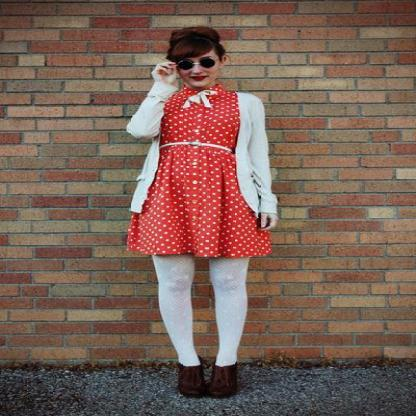dress: (126, 86, 274, 257)
jacket: (126, 75, 276, 215)
shoe: (175, 363, 236, 399)
